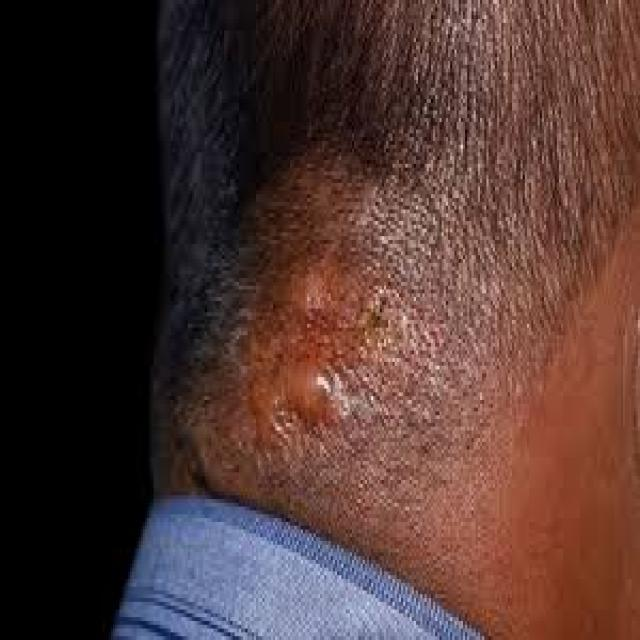Eczema: (177, 110, 510, 525)
